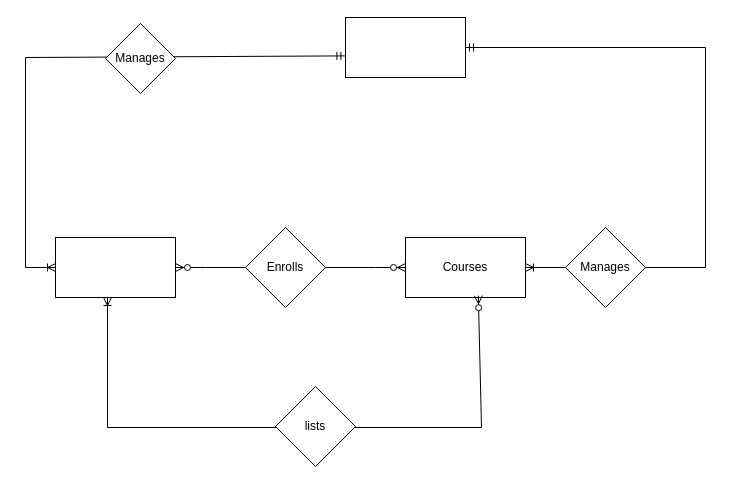
Image size: 732x484. Some labels were removed from this diagram. The shapes that lost their labels are listed below. From the top down, each one's centre as x and y in pixels, then its label:
(405,47): Admin
(115,267): User
